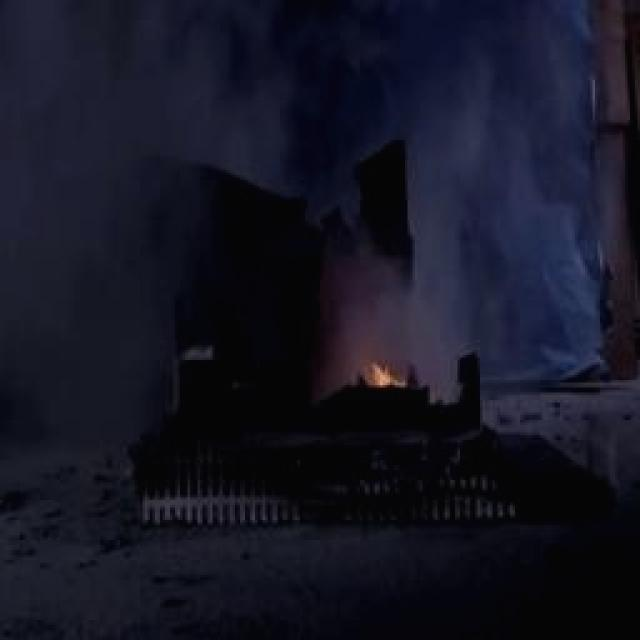fire: (330, 344, 425, 418)
smoke: (8, 4, 588, 336)
